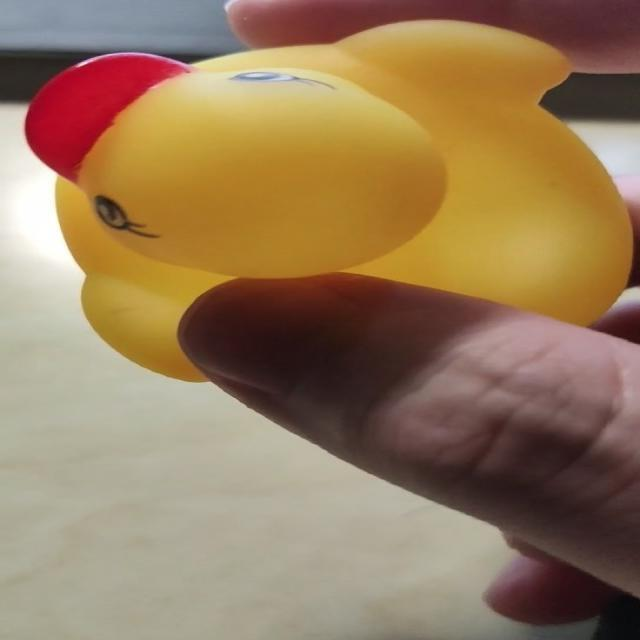rubber-duck: (25, 20, 630, 379)
